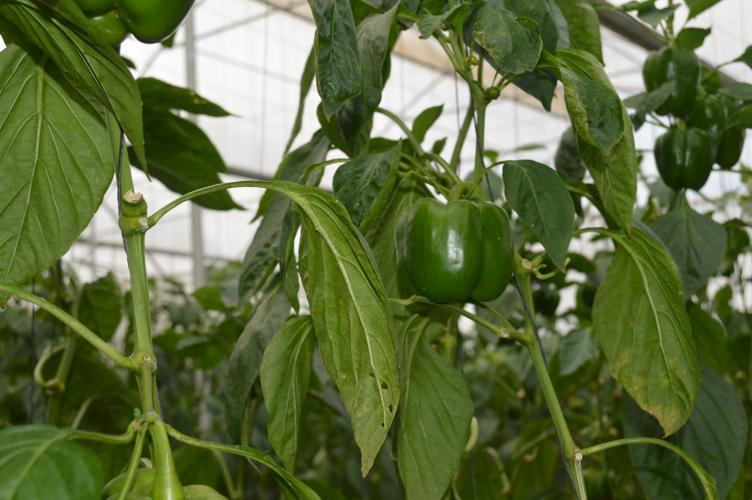BellPepper: (397, 198, 510, 306), (649, 126, 712, 189), (700, 92, 741, 175), (645, 51, 698, 110)
